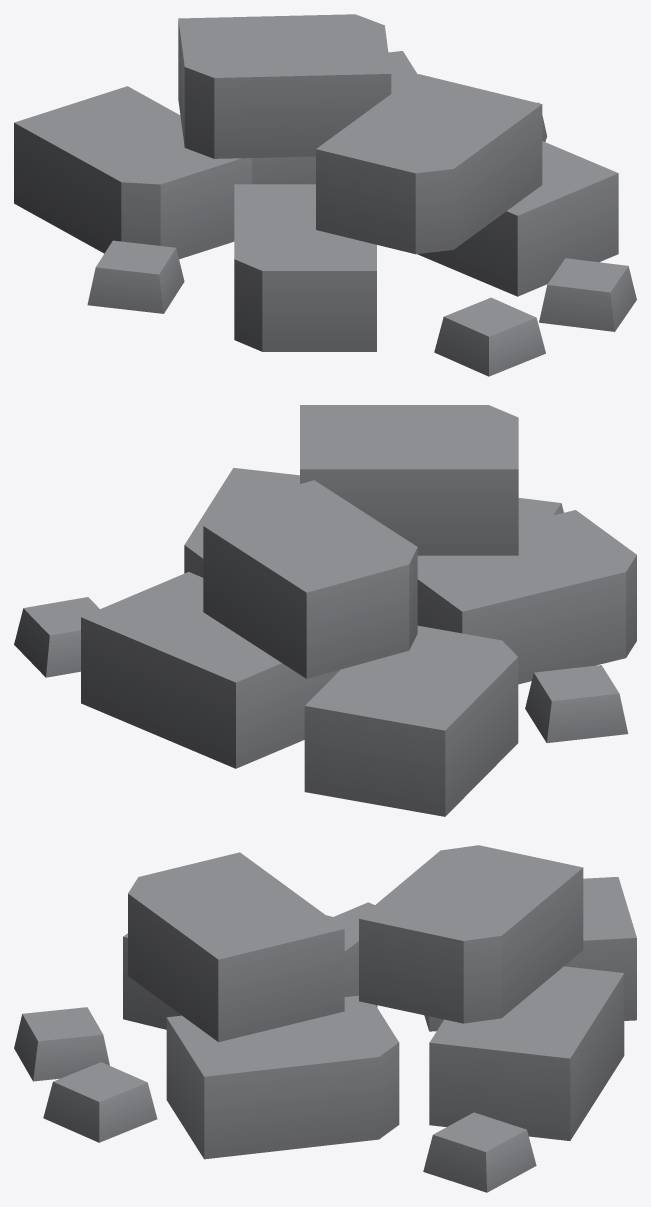
Rendered from debris.glb.
3 views of the same model, one above another, from view 1: azimuth 30°, elevation 25°; view 2: azimuth 150°, elevation 25°; view 3: azimuth 270°, elevation 25° (orthographic). The views are drawn at different scales.
Parts seen in each view (by area): view 1: debris; view 2: debris; view 3: debris.
Part boxes in pixels (bbox=[...]): debris: bbox=[14, 14, 636, 376]; debris: bbox=[14, 405, 636, 816]; debris: bbox=[14, 845, 636, 1192].
Size of the model in its own units: 0.8043 by 0.24 by 0.8209.
1 material, 1 textured.
